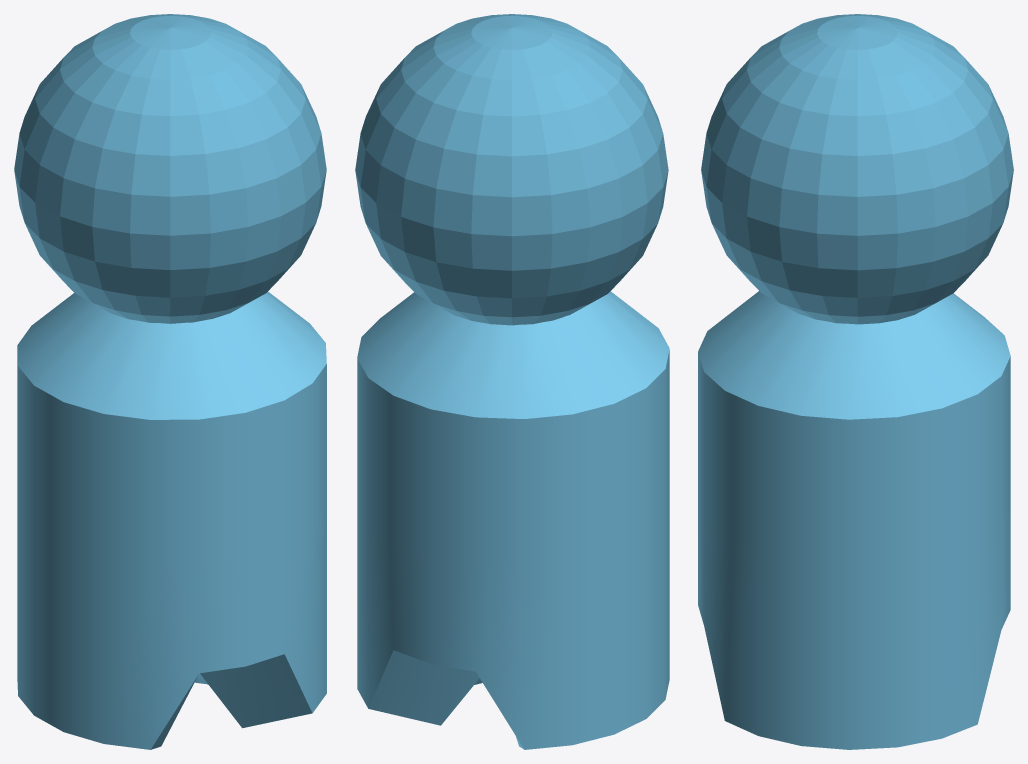
File: player.gltf
The picture shows the model from 3 angles, left to right: view 1: azimuth 30°, elevation 25°; view 2: azimuth 150°, elevation 25°; view 3: azimuth 270°, elevation 25°; orthographic projection.
Visible parts, largest first — view 1: Цилиндр, Сфера; view 2: Цилиндр, Сфера; view 3: Цилиндр, Сфера.
Part boxes in pixels (left/top/right/bottom): Цилиндр: left=17, top=291, right=326, bottom=749; Сфера: left=14, top=14, right=326, bottom=323; Цилиндр: left=357, top=291, right=669, bottom=749; Сфера: left=355, top=14, right=668, bottom=325; Цилиндр: left=698, top=291, right=1010, bottom=749; Сфера: left=701, top=14, right=1013, bottom=324.
Bounding box in the file's own units: 1 × 2.42 × 1.01.
